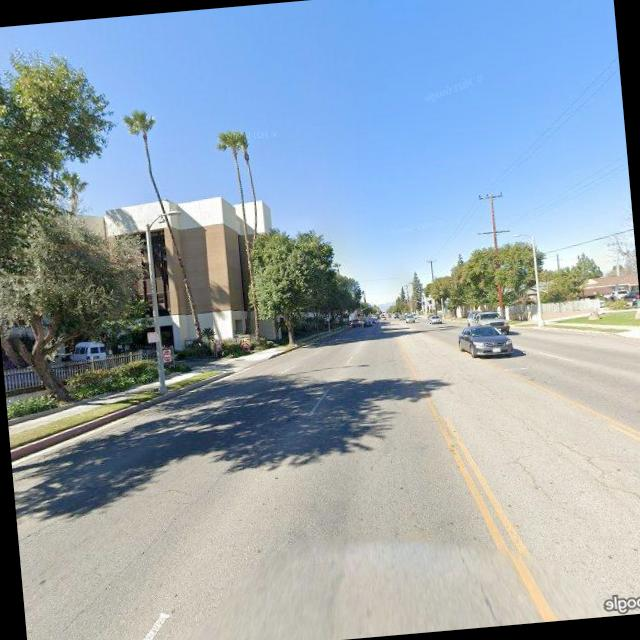pothole: (510, 403, 640, 513), (512, 454, 554, 502)
